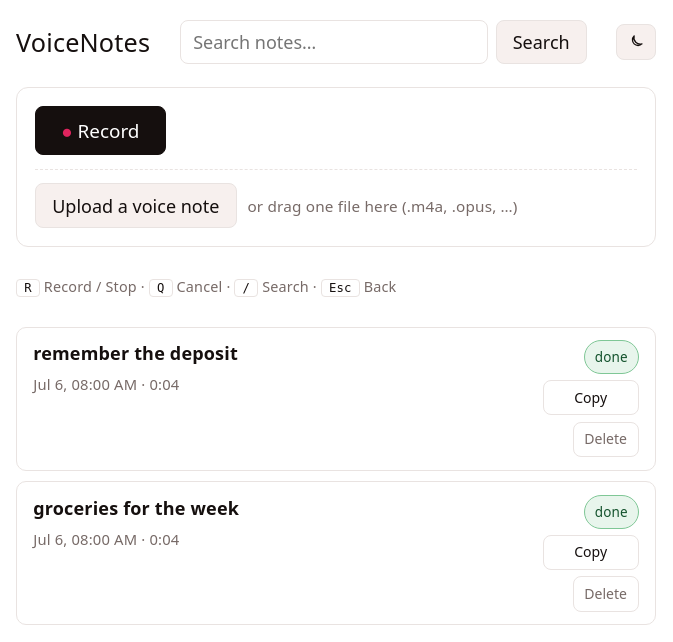
search results show the matched line with the query emphasized
Check: the text "groceries for the week" is shown, box [33,496,239,520]
Type "deposit" into the search field at (334, 42), box [180,20,488,64]
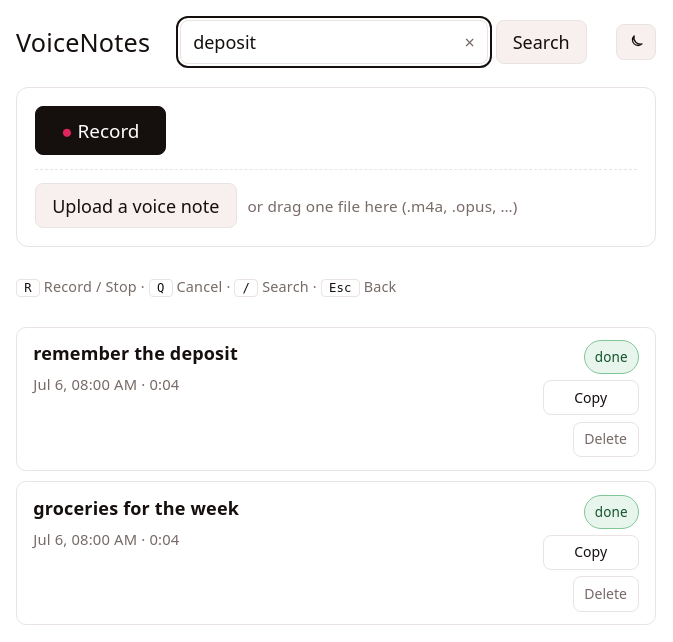
Click the button "Search" at (541, 42), box [496,20,587,64]
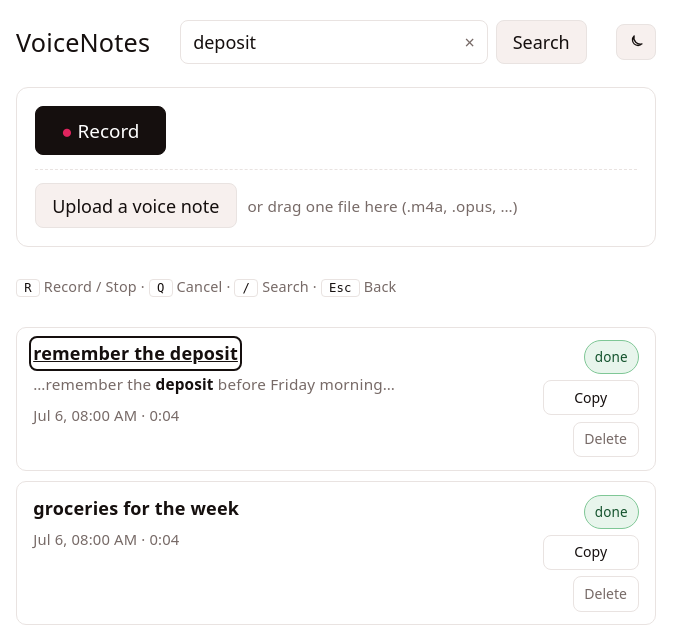
Check: the text "groceries for the week" is shown once, box [33,496,239,520]
Check: the text "…remember the deposit before Friday morning…" is shown, box [33,371,395,397]
Check: the text "deposit" is shown, box [156,374,214,394]
